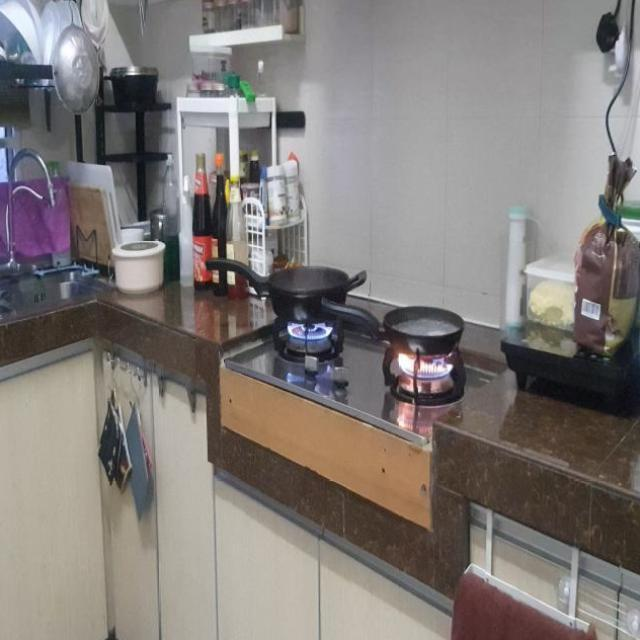smoke: (395, 348, 456, 379), (285, 318, 336, 343)
